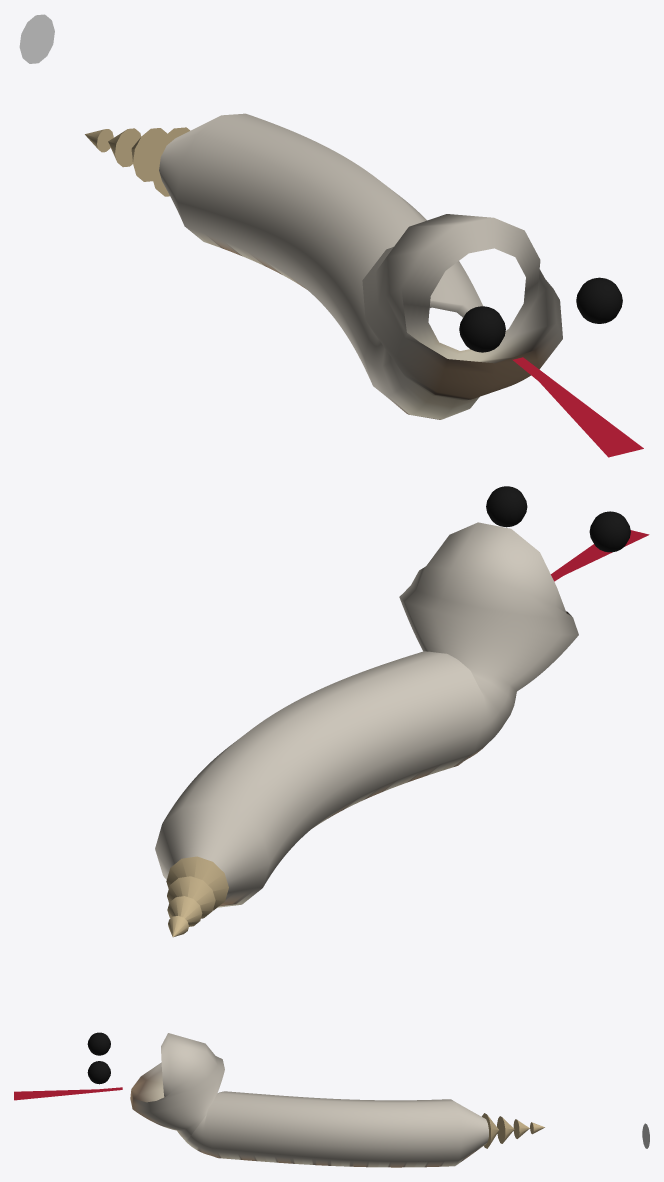
File: cascabel.glb
3 views of the same model, one above another, from view 1: azimuth 30°, elevation 25°; view 2: azimuth 150°, elevation 25°; view 3: azimuth 270°, elevation 25° (orthographic). The views are drawn at different scales.
Size of the model in its own units: 0.4584 by 0.4993 by 2.45.
